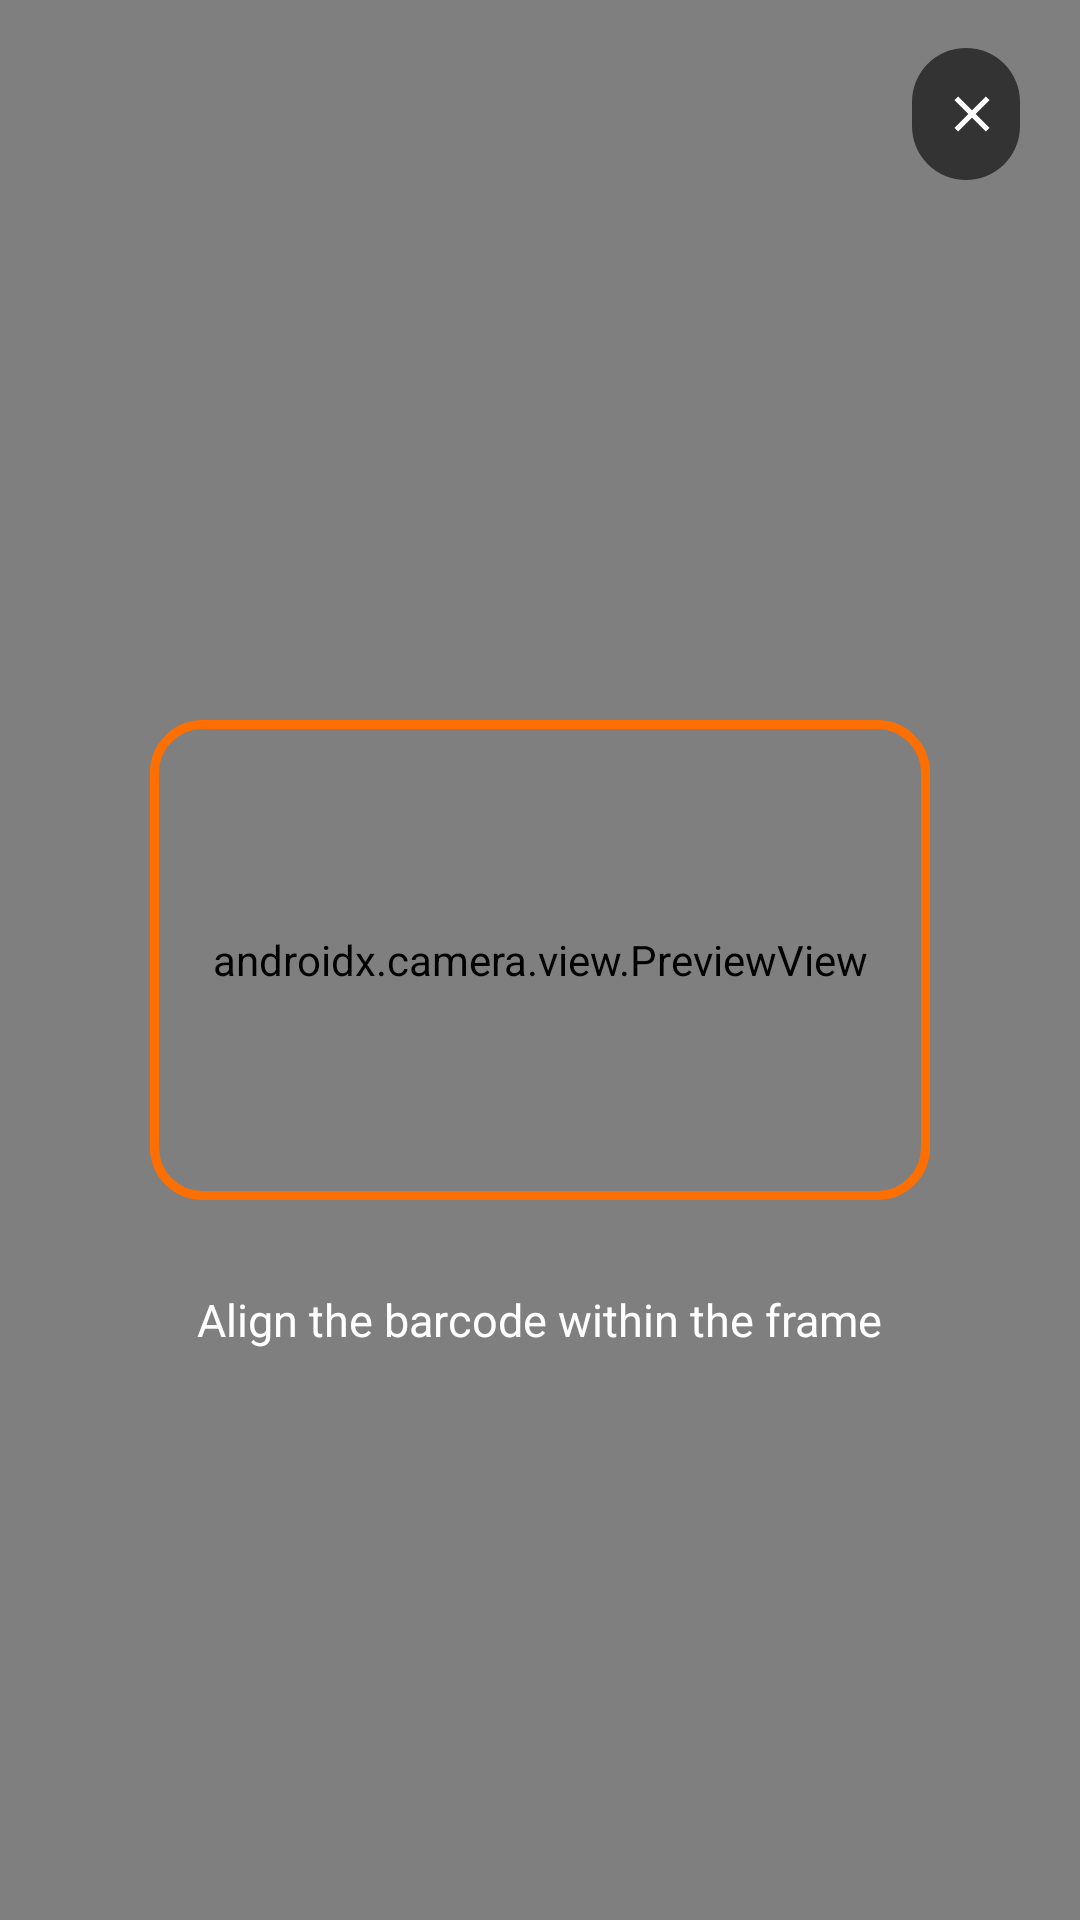

Icon bounding boxes for this 1080px x 1920px phone screenshot, format {"left": x1, "top": y1, "right": x2, "bottom": y2}:
close: {"left": 912, "top": 48, "right": 1020, "bottom": 180}
